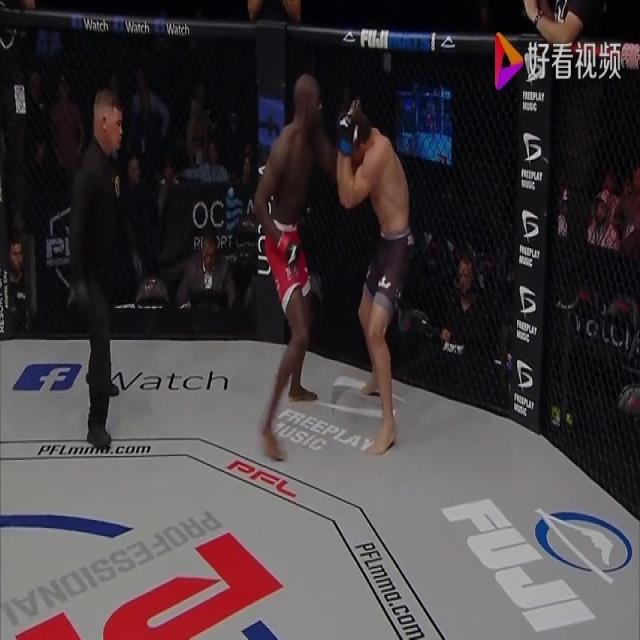fight: (248, 71, 418, 465)
non-fight: (60, 79, 171, 453)
